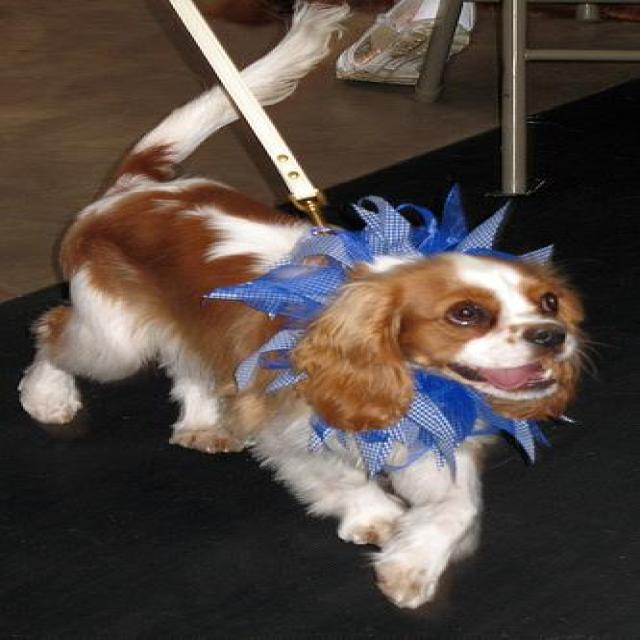blenheim_spaniel: (13, 0, 613, 614)
